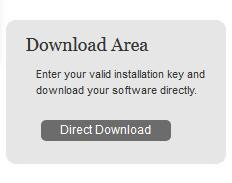button: (40, 118, 172, 143)
